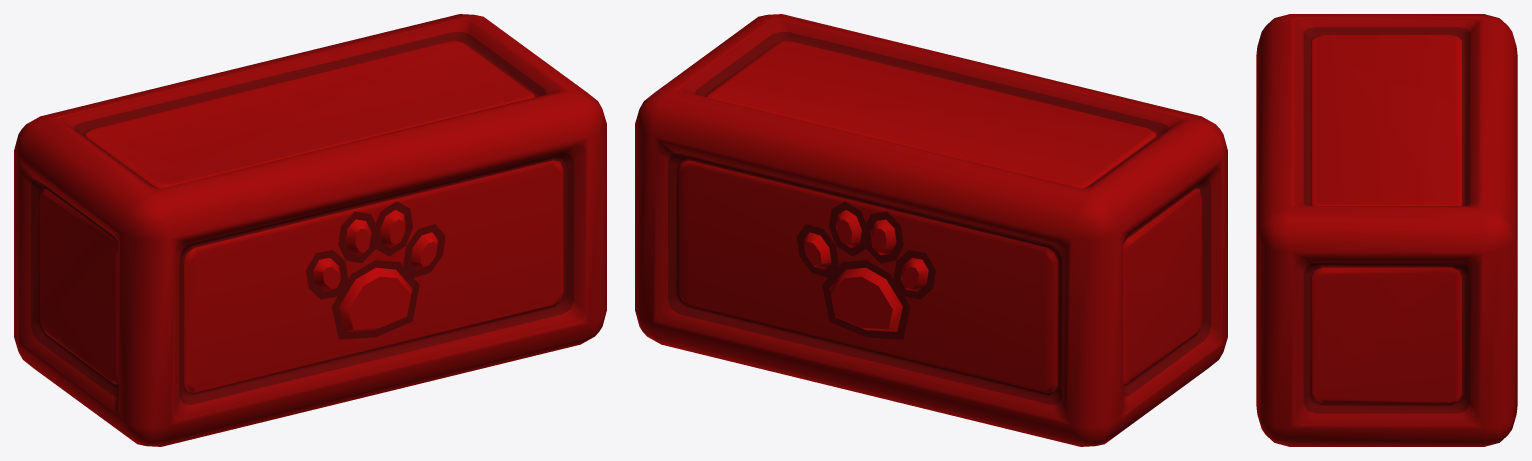
File: kup2.glb
3 views of the same model, side by side, from view 1: azimuth 30°, elevation 25°; view 2: azimuth 150°, elevation 25°; view 3: azimuth 270°, elevation 25° (orthographic). The views are drawn at different scales.
Parts seen in each view (by area): view 1: kup2; view 2: kup2; view 3: kup2.
Boxes of the visible parts, x1=… form: kup2: x1=14, y1=14, x2=606, y2=446; kup2: x1=635, y1=14, x2=1227, y2=446; kup2: x1=1256, y1=14, x2=1517, y2=446.
Bounding box in the file's own units: 3.09 × 1.55 × 1.55.
